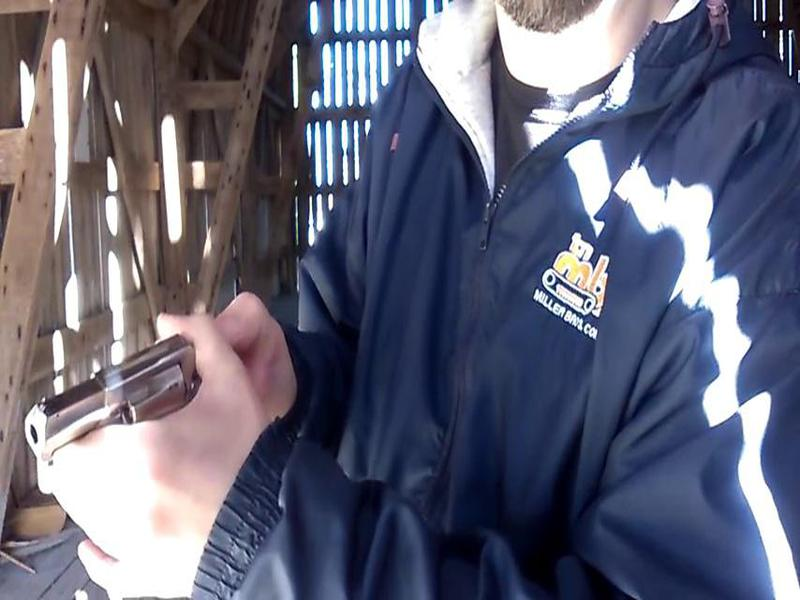Revolver: (19, 330, 187, 474)
